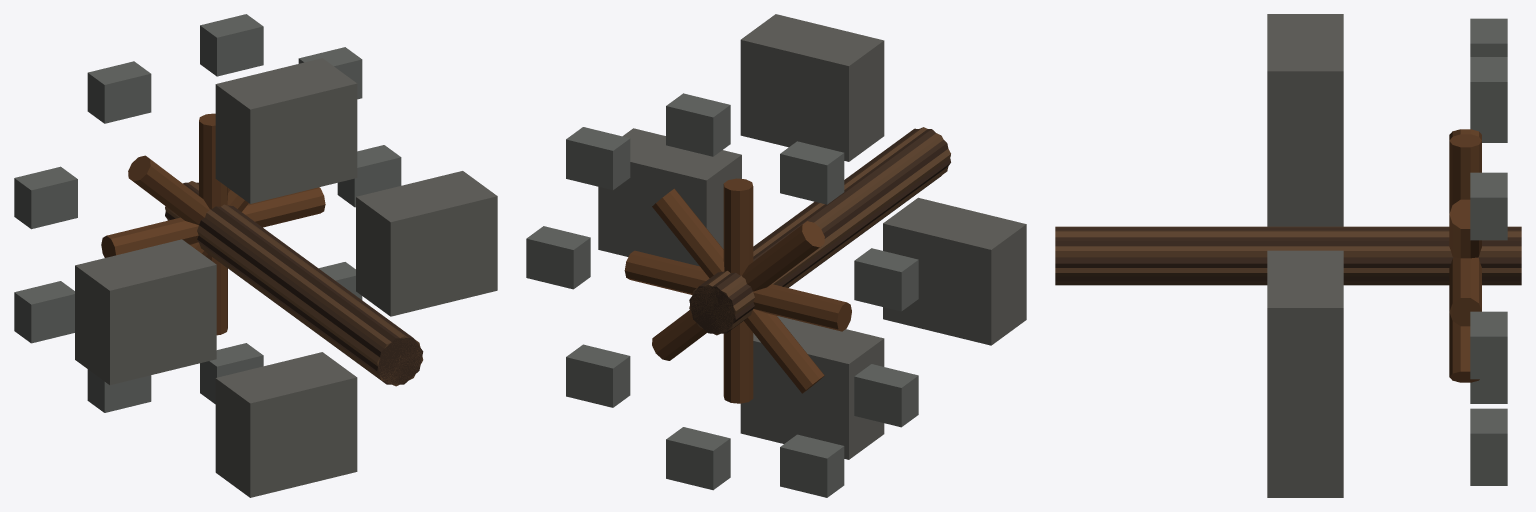
The model's file is SM_Campfire.obj.
The picture shows the model from 3 angles, left to right: view 1: azimuth 30°, elevation 25°; view 2: azimuth 150°, elevation 25°; view 3: azimuth 270°, elevation 25°; orthographic projection. The views are drawn at different scales.
Bounding box in the file's own units: 1.16 × 1.11 × 1.1.
